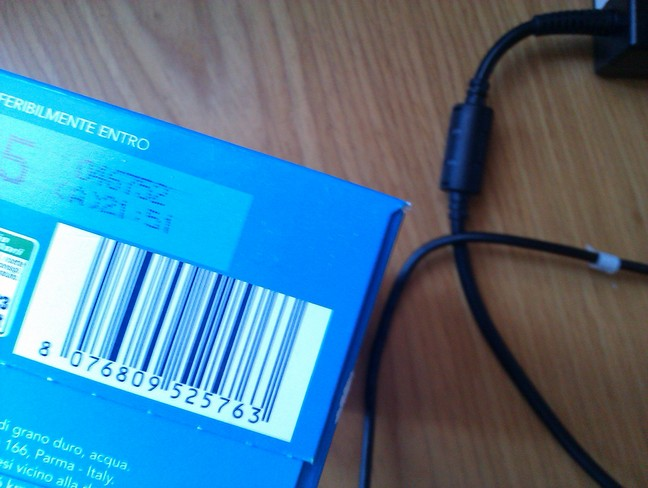detection: (14, 224, 329, 443)
